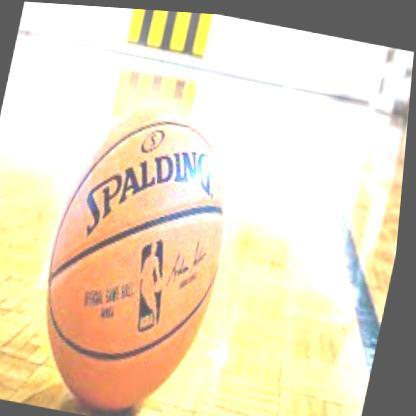basketball: (30, 90, 250, 416)
